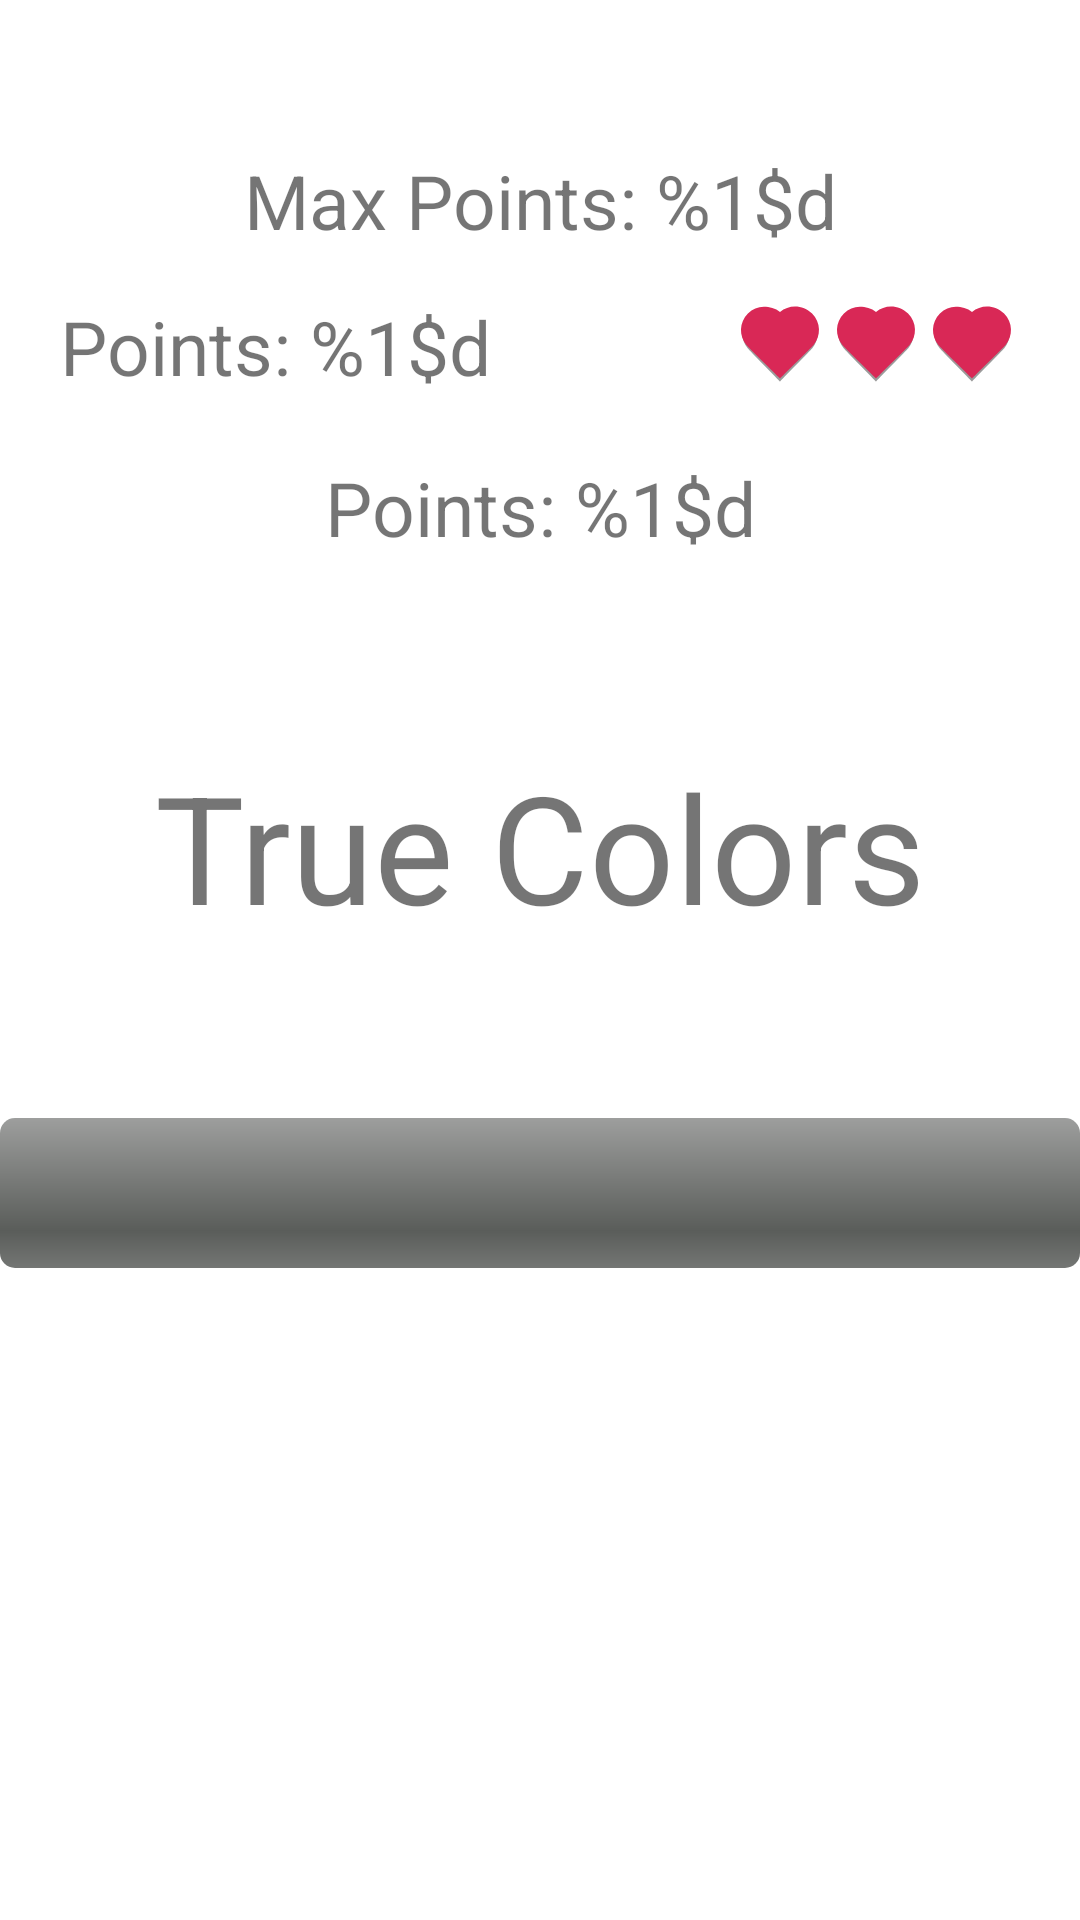

Named icons in this screenshot (1080 x 1920) and their centers, point (x, y):
heart: point (780, 343), point (876, 343), point (972, 343)
